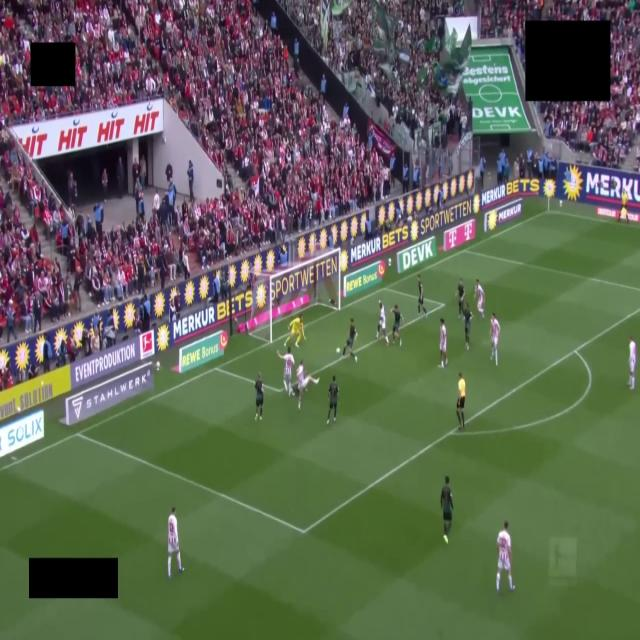ball: (336, 348, 340, 353)
player: (496, 521, 514, 591), (168, 507, 183, 578), (297, 360, 318, 409), (277, 347, 294, 395), (441, 476, 453, 543), (342, 319, 357, 362), (285, 315, 305, 347), (327, 376, 338, 423), (376, 302, 388, 345), (491, 313, 500, 366), (463, 302, 472, 350), (392, 304, 402, 346), (629, 336, 636, 390), (255, 373, 263, 420), (418, 275, 427, 315), (475, 280, 484, 319), (440, 319, 447, 368), (456, 279, 464, 319)
referee: (457, 373, 465, 430)
